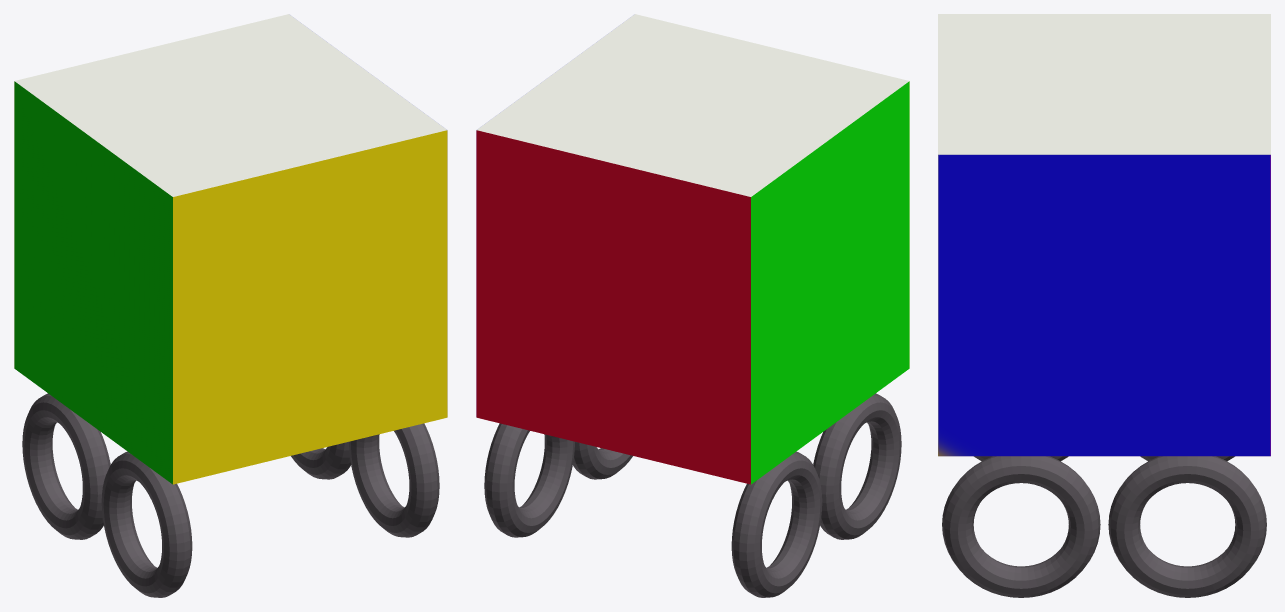
Rendered from BoxCar.glb.
The picture shows the model from 3 angles, left to right: view 1: azimuth 30°, elevation 25°; view 2: azimuth 150°, elevation 25°; view 3: azimuth 270°, elevation 25°; orthographic projection. The views are drawn at different scales.
Parts seen in each view (by area): view 1: Cube, Torus.002, Torus.003, Torus.001, Torus.004; view 2: Cube, Torus.003, Torus.002, Torus.004, Torus.001; view 3: Cube, Torus.001, Torus.004.
Boxes of the visible parts, box(x1,y1,x2,y2) form: Cube: box(14, 14, 447, 484); Torus.002: box(101, 451, 192, 597); Torus.003: box(22, 393, 110, 539); Torus.001: box(349, 423, 439, 537); Torus.004: box(291, 441, 350, 479); Cube: box(476, 14, 909, 484); Torus.003: box(731, 451, 822, 597); Torus.002: box(813, 393, 901, 539); Torus.004: box(484, 423, 574, 537); Torus.001: box(573, 441, 632, 479); Cube: box(938, 14, 1270, 456); Torus.001: box(942, 456, 1100, 597); Torus.004: box(1108, 456, 1266, 597).
Size of the model in its own units: 2 by 2.98 by 2.
Materials: 2 (2 with a texture image).
